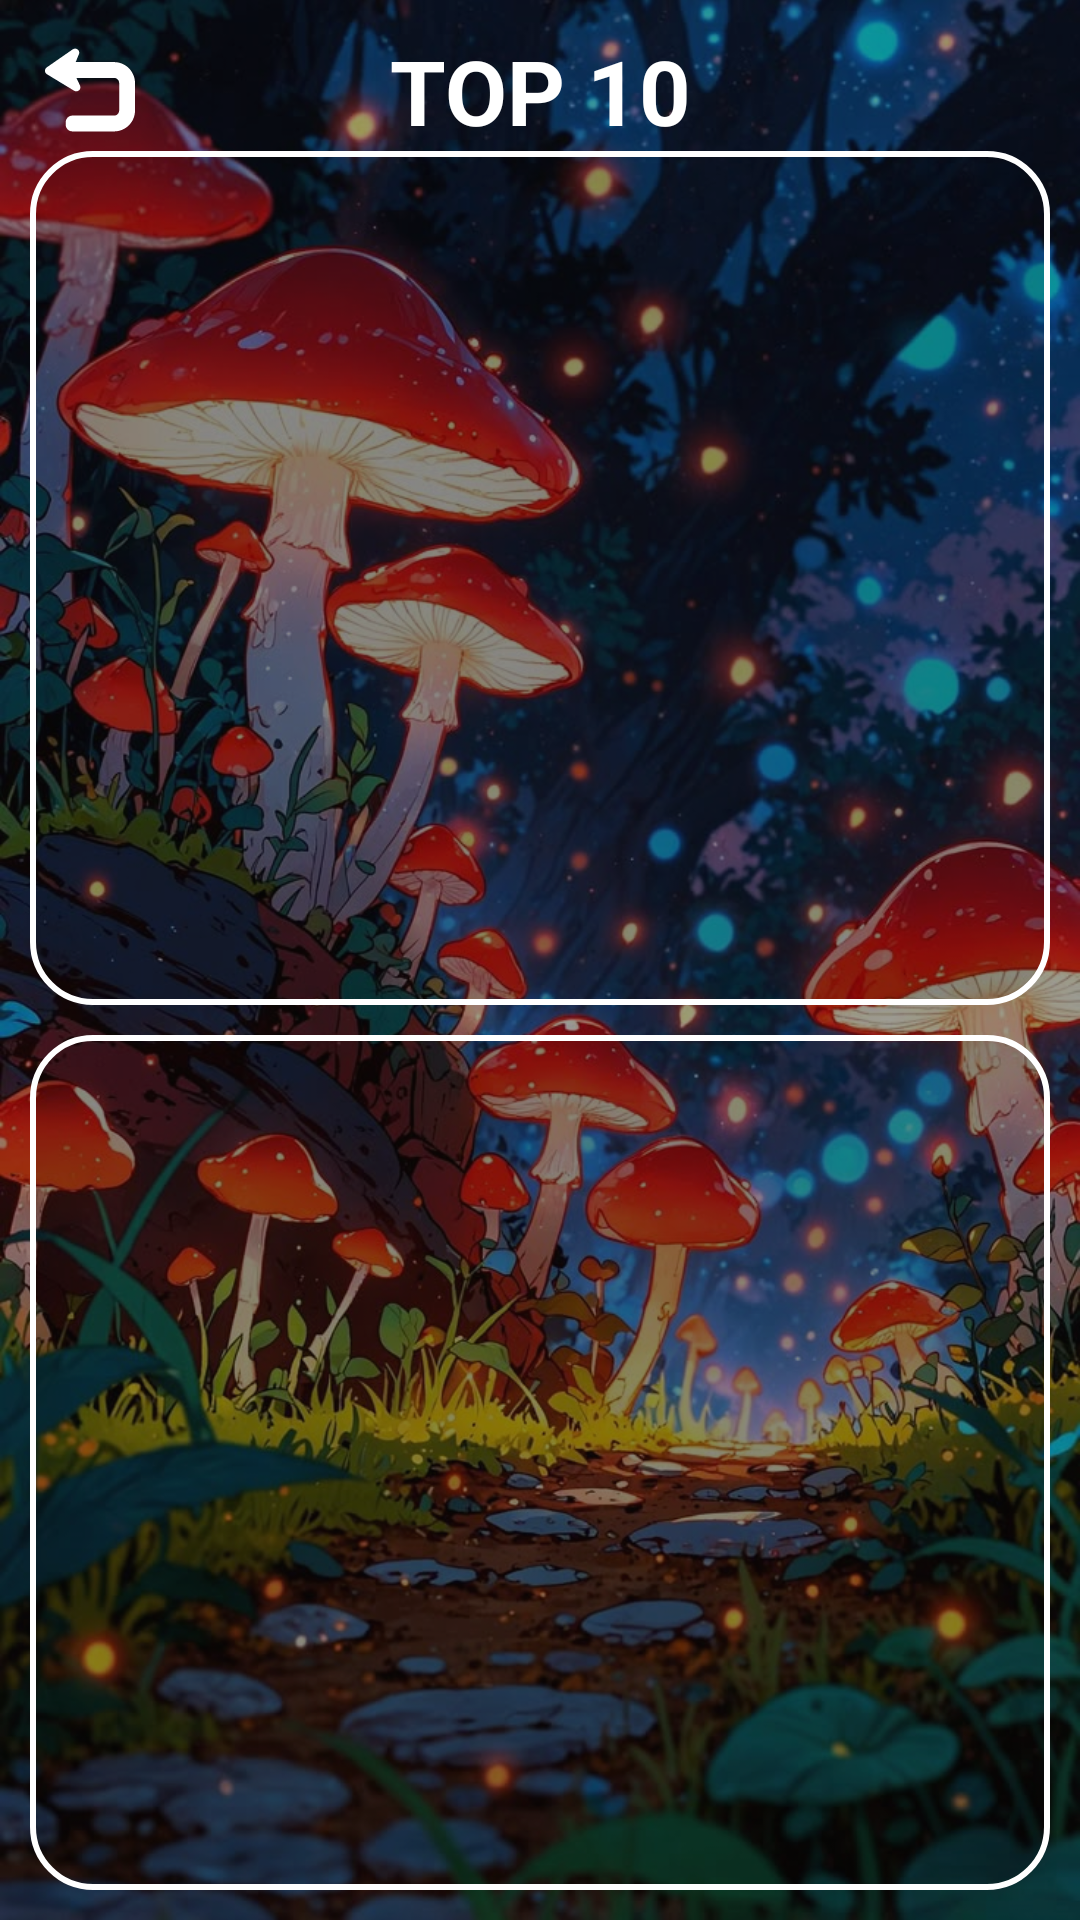

Screen size 1080 × 1920. Icon name, then its center in pixels as [x,y]:
return: [90,90]
